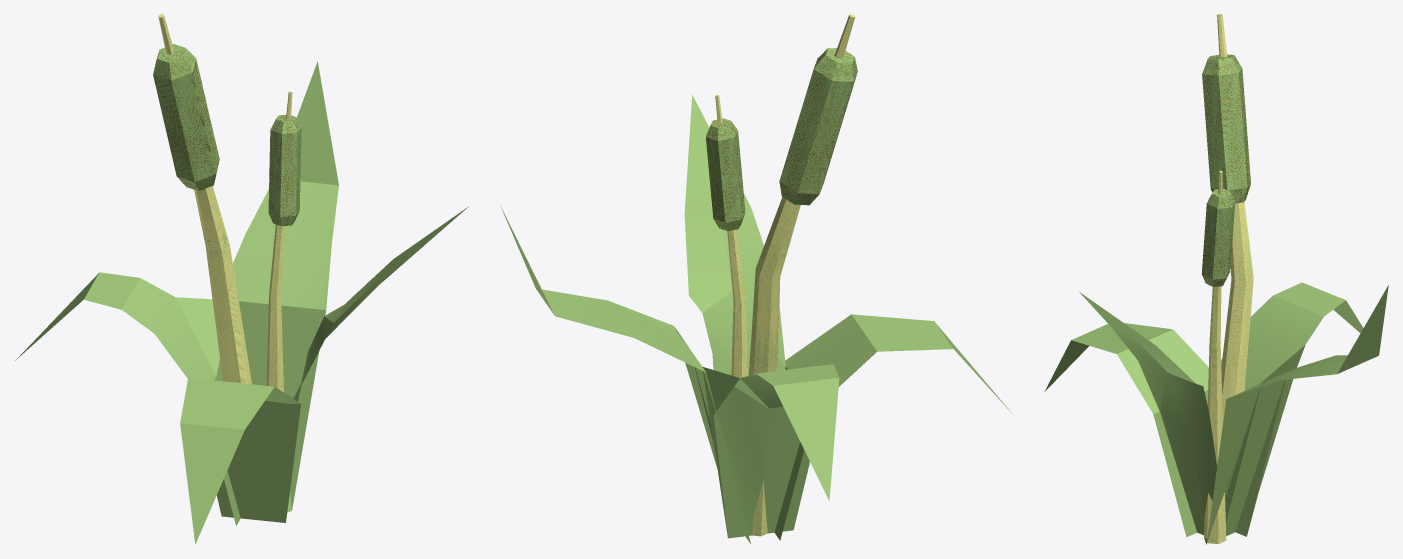
Rendered from Plant_Reeds_01.fbx.
3 views of the same model, side by side, from view 1: azimuth 30°, elevation 25°; view 2: azimuth 150°, elevation 25°; view 3: azimuth 270°, elevation 25° (orthographic). The views are drawn at different scales.
Parts seen in each view (by area): view 1: Plant_Reeds_01; view 2: Plant_Reeds_01; view 3: Plant_Reeds_01.
Boxes of the visible parts, <box> form: Plant_Reeds_01: <box>15,14,468,544</box>; Plant_Reeds_01: <box>500,14,1012,543</box>; Plant_Reeds_01: <box>1044,14,1388,544</box>.
Bounding box in the file's own units: 18.25 × 29.18 × 19.15.
